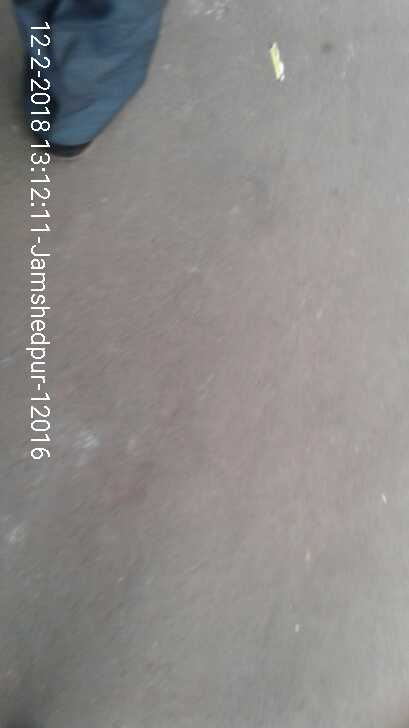reject: (161, 255, 289, 359)
